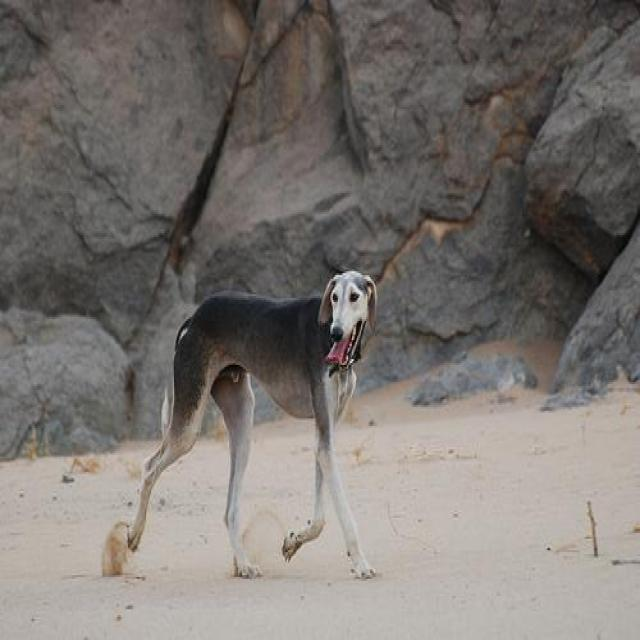saluki: (124, 268, 380, 582)
